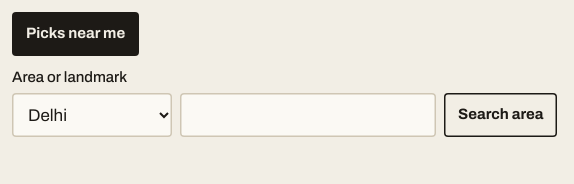
HomeNearMe › says so when nothing is near
Click the button "Picks near me": coordinates (76, 34) top-left (12, 12), bottom-right (139, 56)
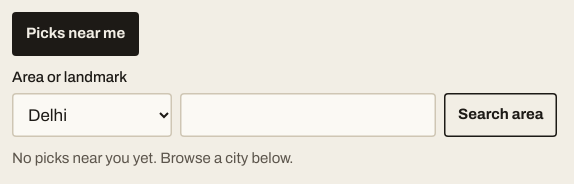
Expected: the text "No picks near you yet. Browse a city below." is shown, top-left (12, 151), bottom-right (293, 167)
